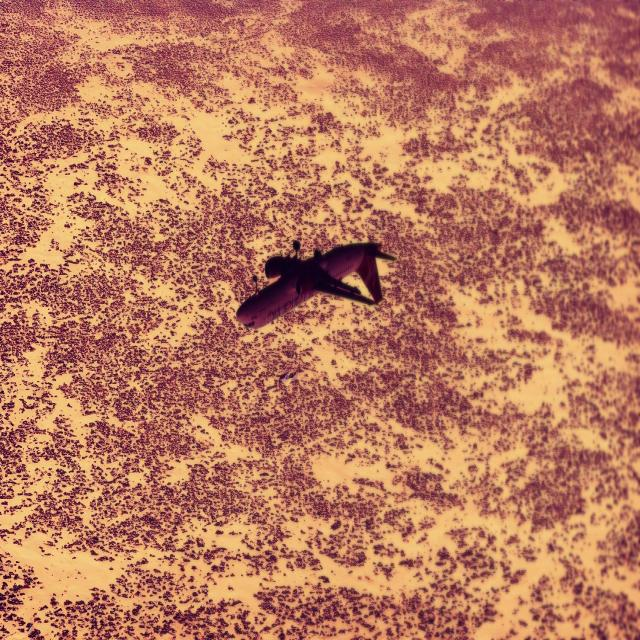airplane: (236, 238, 397, 330)
